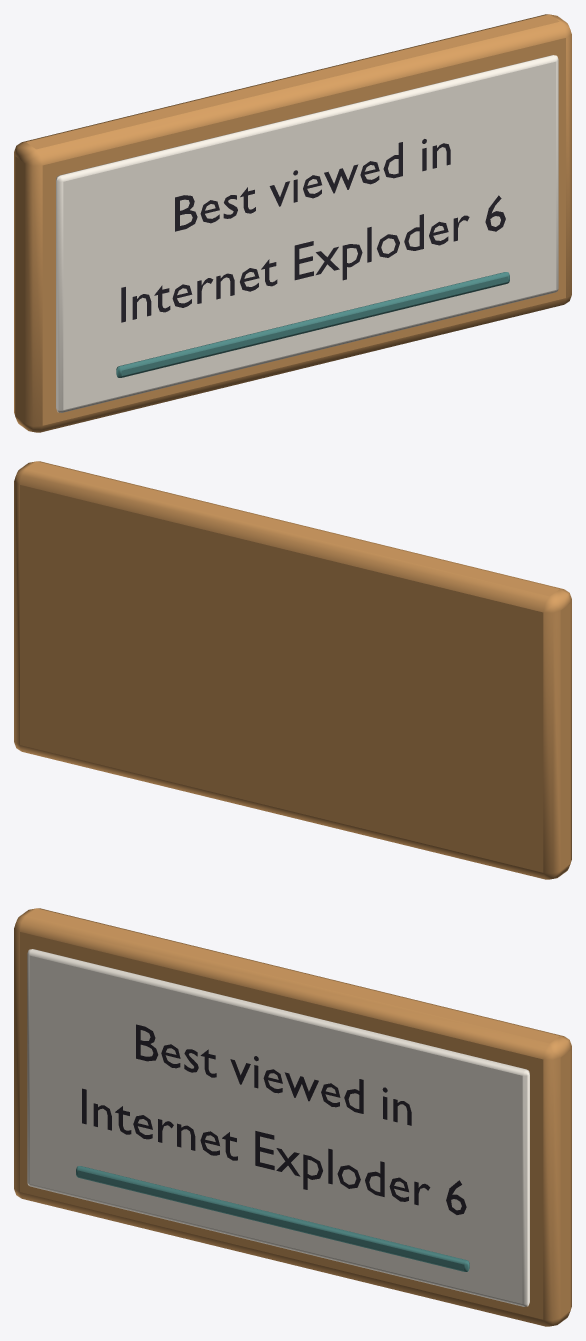
File: era_web2_badge.glb
The picture shows the model from 3 angles, top to bottom: view 1: azimuth 30°, elevation 25°; view 2: azimuth 150°, elevation 25°; view 3: azimuth 330°, elevation 25°; orthographic projection.
Parts seen in each view (by area): view 1: era_web2_badge; view 2: era_web2_badge; view 3: era_web2_badge.
Part boxes in pixels (x1=…): era_web2_badge: x1=14, y1=14, x2=571, y2=432; era_web2_badge: x1=14, y1=461, x2=571, y2=879; era_web2_badge: x1=14, y1=908, x2=571, y2=1326.
Size of the model in its own units: 1.25 by 0.62 by 0.132.
